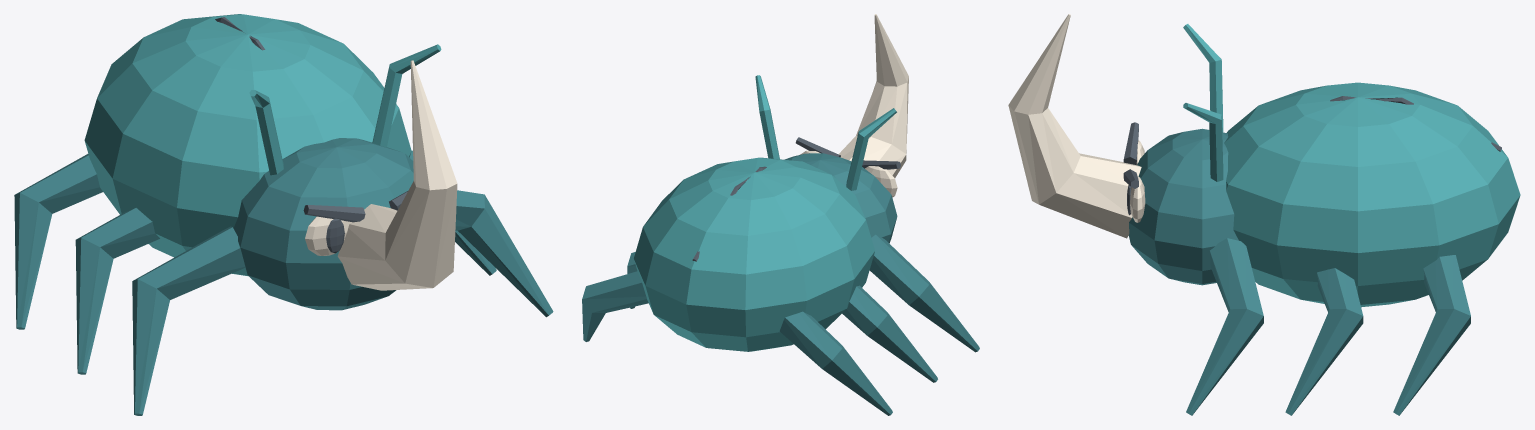
The model's file is armored-beetle.glb.
3 renders of one model, left to right at view 1: azimuth 30°, elevation 25°; view 2: azimuth 150°, elevation 25°; view 3: azimuth 270°, elevation 25°, orthographic. The views are drawn at different scales.
Visible parts, largest first — view 1: carapace, head, great_horn, leg_-10, leg_-12, leg_-11, leg_10, antenna_1, antenna_-1, eye_-1, angry_brow_-1, leg_11 (+1 smaller); view 2: carapace, great_horn, leg_-10, leg_-12, head, leg_-11, leg_12, antenna_-1, antenna_1, eye_-1; view 3: carapace, head, great_horn, leg_10, leg_12, leg_11, antenna_-1, antenna_1, eye_1, angry_brow_-1.
Boxes of the visible parts, x1,y1,x2,y2 form: carapace: (84, 14, 411, 276); head: (233, 138, 413, 310); great_horn: (337, 60, 457, 290); leg_-10: (132, 226, 245, 415); leg_-12: (14, 154, 102, 329); leg_-11: (75, 208, 159, 374); leg_10: (455, 190, 553, 317); antenna_1: (372, 44, 441, 147); antenna_-1: (249, 90, 283, 175); eye_-1: (305, 216, 351, 255); angry_brow_-1: (303, 205, 365, 222); leg_11: (409, 150, 496, 275); carapace: (634, 157, 874, 351); great_horn: (838, 14, 908, 177); leg_-10: (869, 234, 979, 352); leg_-12: (779, 311, 892, 415); head: (785, 153, 897, 243); leg_-11: (842, 285, 937, 382); leg_12: (582, 271, 648, 341); antenna_-1: (846, 108, 896, 190); antenna_1: (755, 75, 779, 159); eye_-1: (865, 166, 897, 197); carapace: (1224, 82, 1520, 307); head: (1128, 128, 1238, 285); great_horn: (1008, 14, 1141, 238); leg_10: (1186, 238, 1263, 415); leg_12: (1393, 255, 1470, 415); leg_11: (1285, 268, 1363, 415); antenna_-1: (1183, 24, 1223, 132); antenna_1: (1183, 103, 1223, 181); eye_1: (1130, 176, 1145, 222); angry_brow_-1: (1123, 122, 1138, 164).
Bounding box in the file's own units: 4.42 × 3.6 × 5.33.
